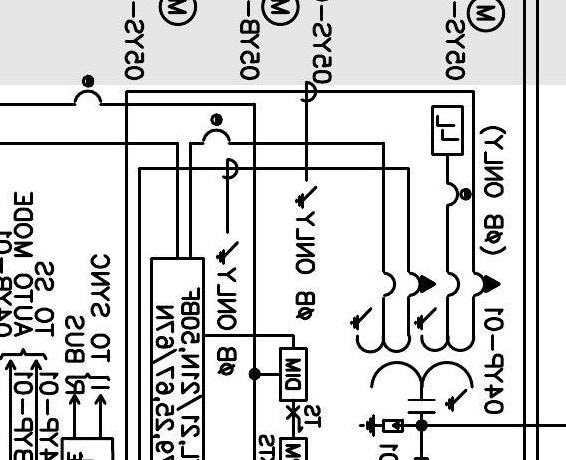115_cvt_1p: (349, 269, 501, 415)
115_la: (358, 413, 404, 438)
DIM: (278, 347, 308, 402)
LL: (430, 105, 464, 156)
